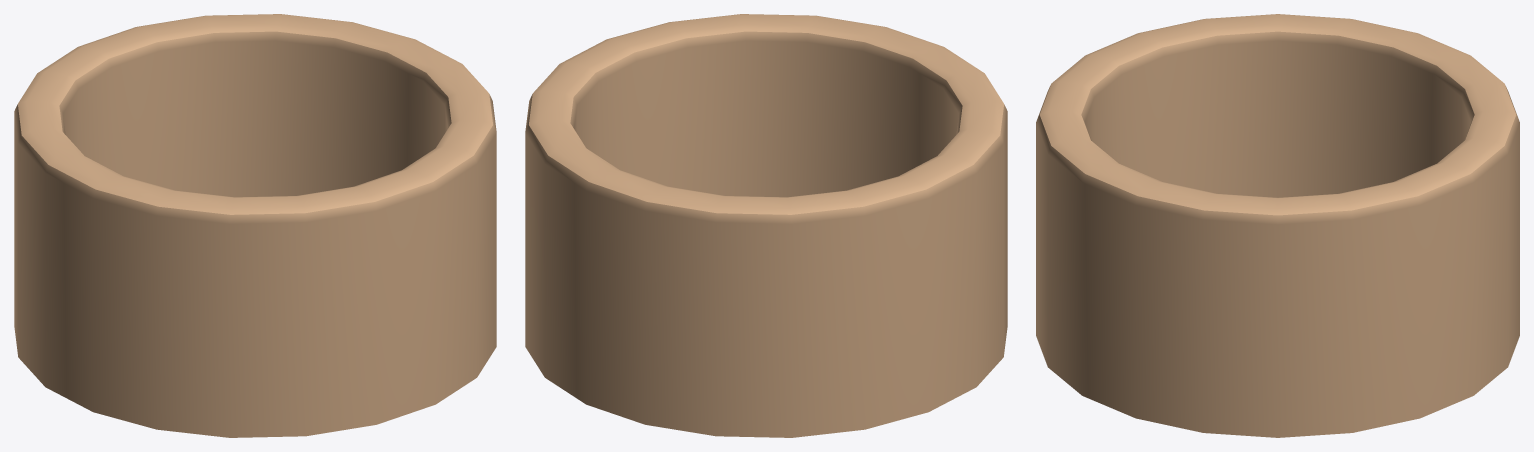
Rendered from Holedefault.fbx.
3 renders of one model, left to right at view 1: azimuth 30°, elevation 25°; view 2: azimuth 150°, elevation 25°; view 3: azimuth 270°, elevation 25°, orthographic.
Parts seen in each view (by area): view 1: Holedefault; view 2: Holedefault; view 3: Holedefault.
Part boxes in pixels (box(x1,y1,x2,y2)): Holedefault: box(14, 14, 496, 437); Holedefault: box(525, 14, 1007, 437); Holedefault: box(1036, 14, 1519, 437).
Size of the model in its own units: 1.98 by 1.01 by 1.98.
Materials: 1 (1 with a texture image).
